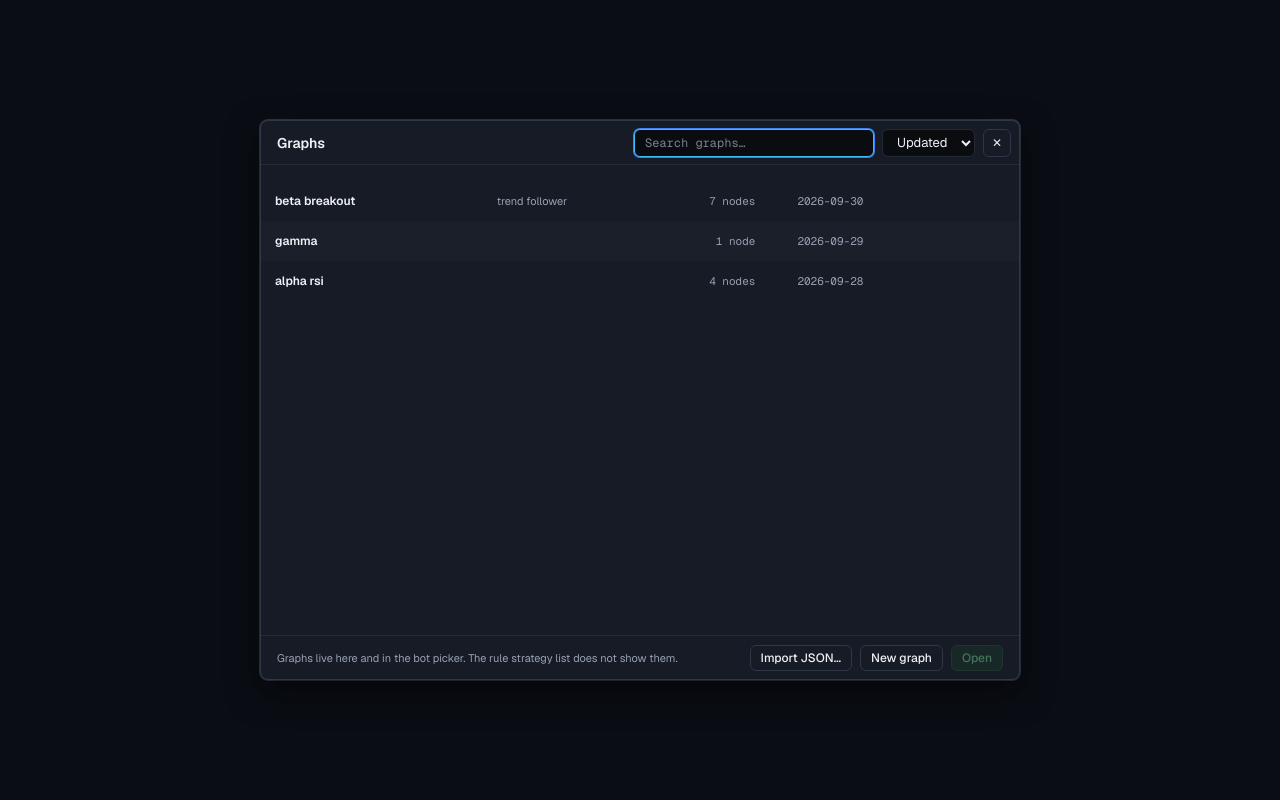
Test: GraphBrowser › keeps the row and says why when the delete hits a 409
Click the option with test id "nb-browser-row-g_c" at point(296, 241), box [261,221,1019,261]
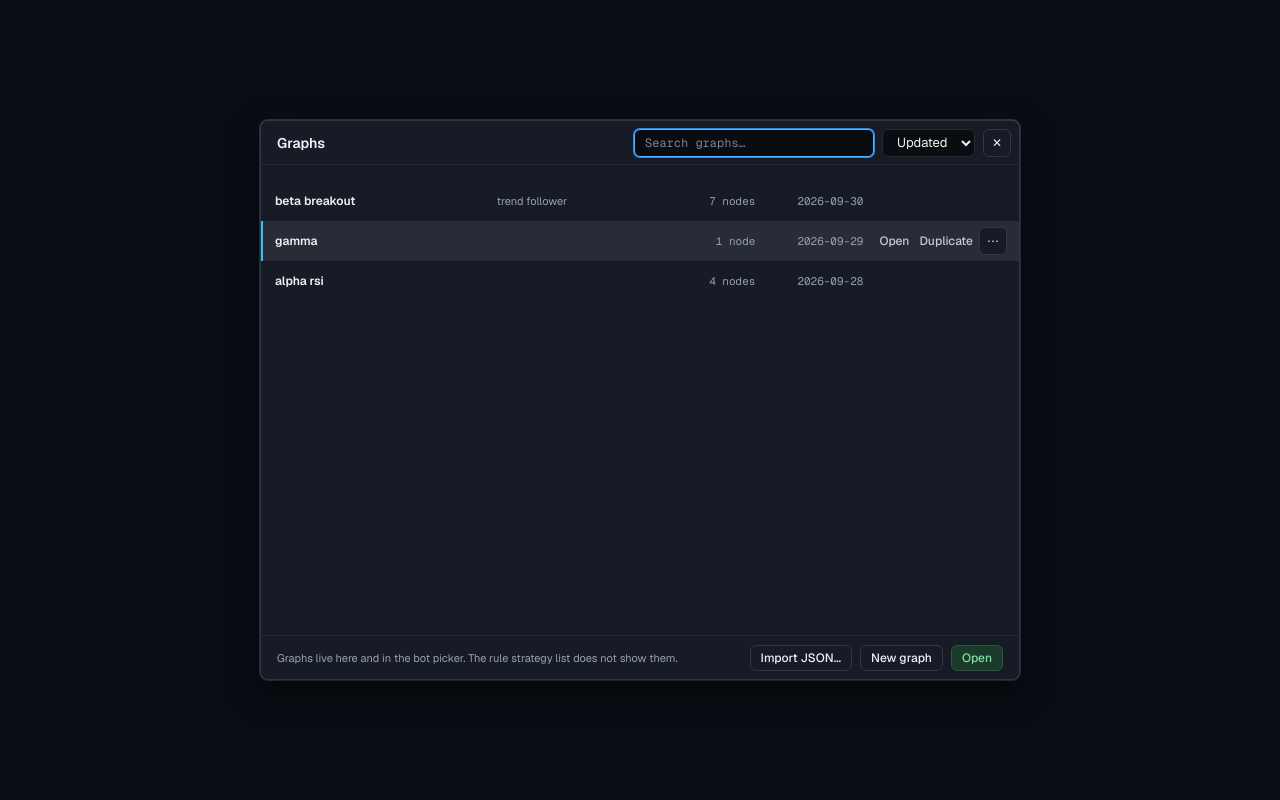
Press Delete in the list named "Graphs", box [261,181,1019,301]
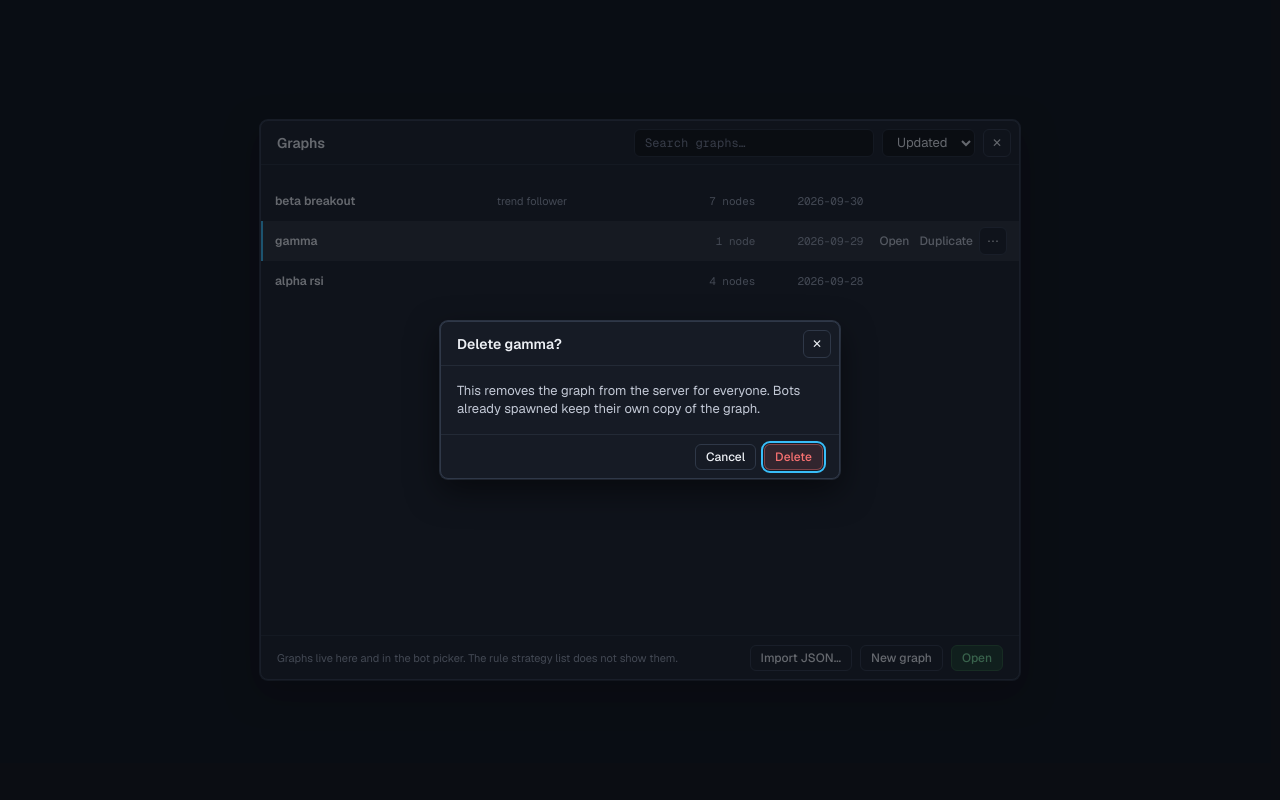
Click the button "Delete" at point(794, 456), box [764,444,823,470]
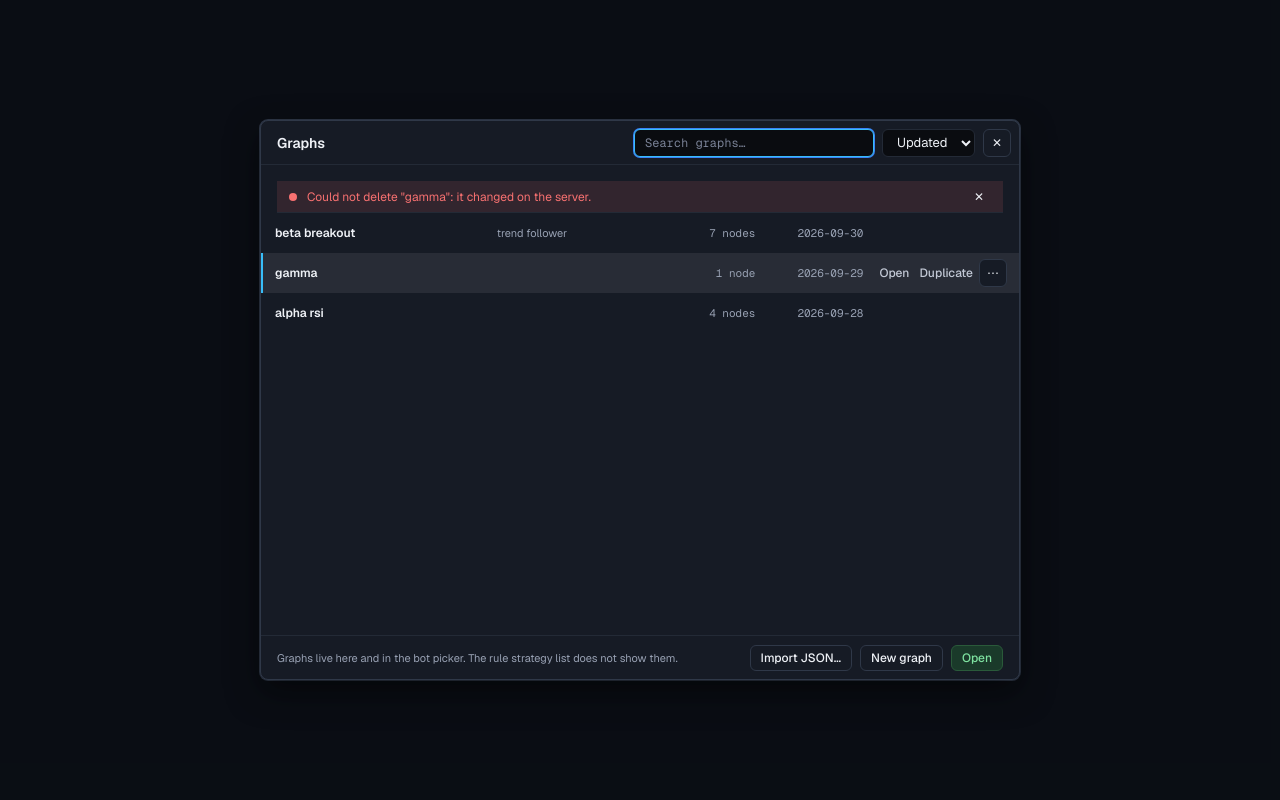
Expected: the option with test id "nb-browser-row-g_c" is shown, [261,253,1019,293]
Expected: the message with test id "nb-browser-banner" shows "Could not delete \"gamma\": it changed on the server.", [307,188,591,204]
